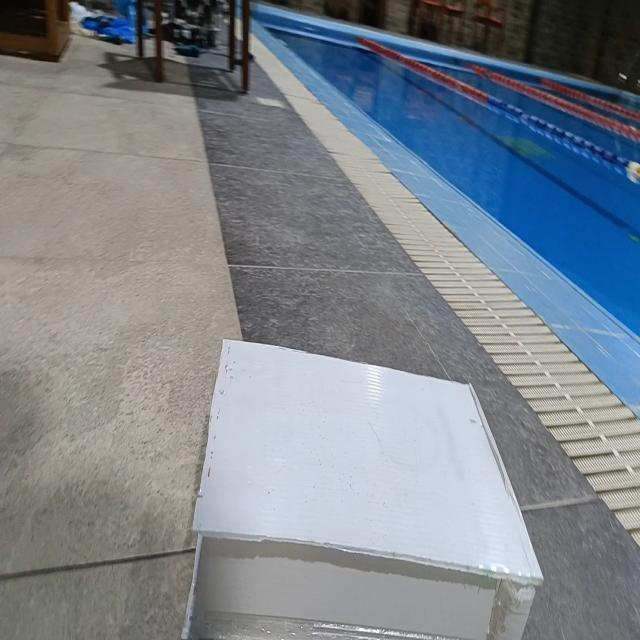Cuboid: (182, 335, 544, 637)
